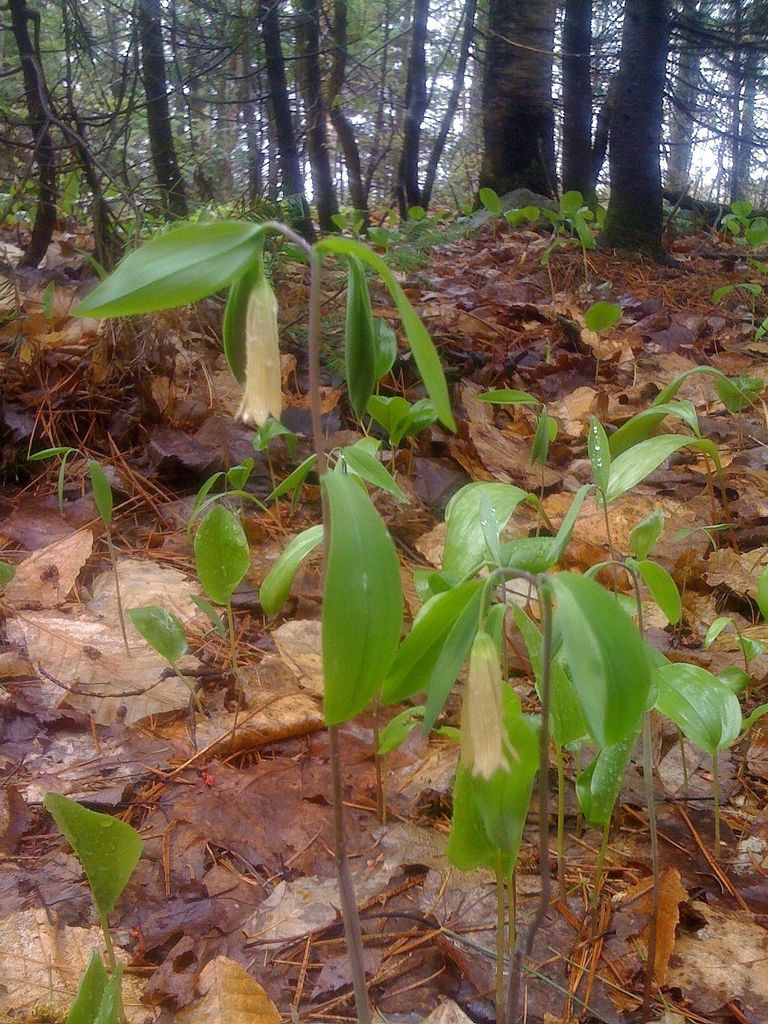Tree: (3, 5, 764, 283)
